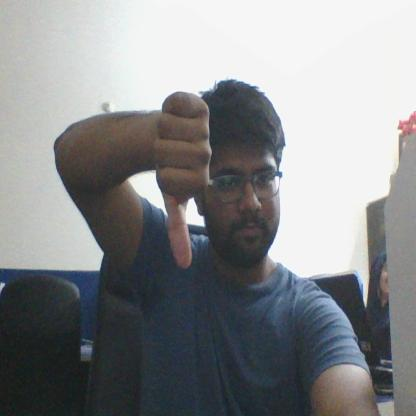thumbs-down: (153, 90, 221, 275)
